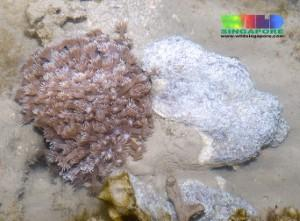bleached_corals: (0, 10, 182, 199), (170, 175, 261, 221), (171, 175, 261, 221), (123, 164, 181, 221)
